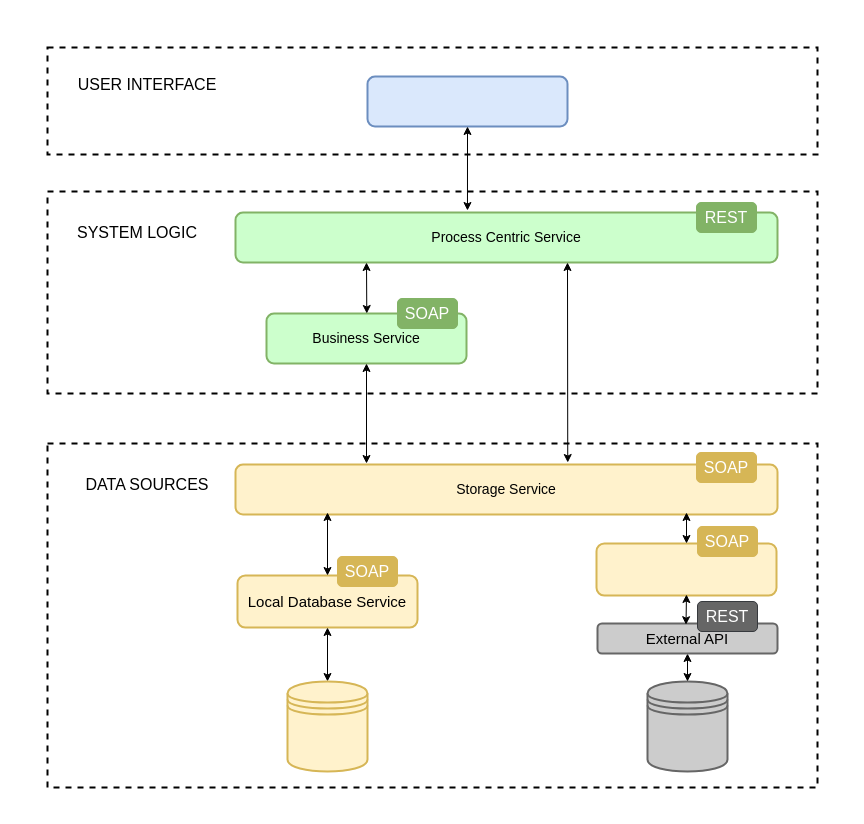
The diagram is 864 pixels wide and 824 high, and some of its shapes have lost their labels. The centre of each missing label's shape, as x and y in pixels:
Adapter Service: (686,569)
External DB: (687,726)
Local DB: (327,726)
Telegram Bot: (467,101)
